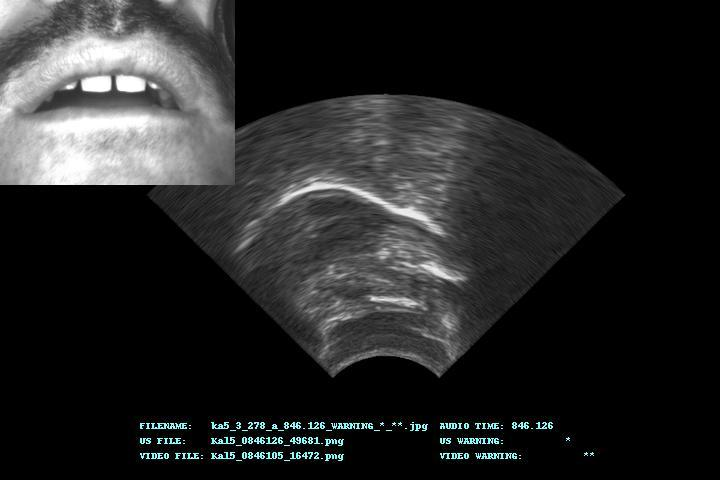-a-: (152, 97, 624, 376)
